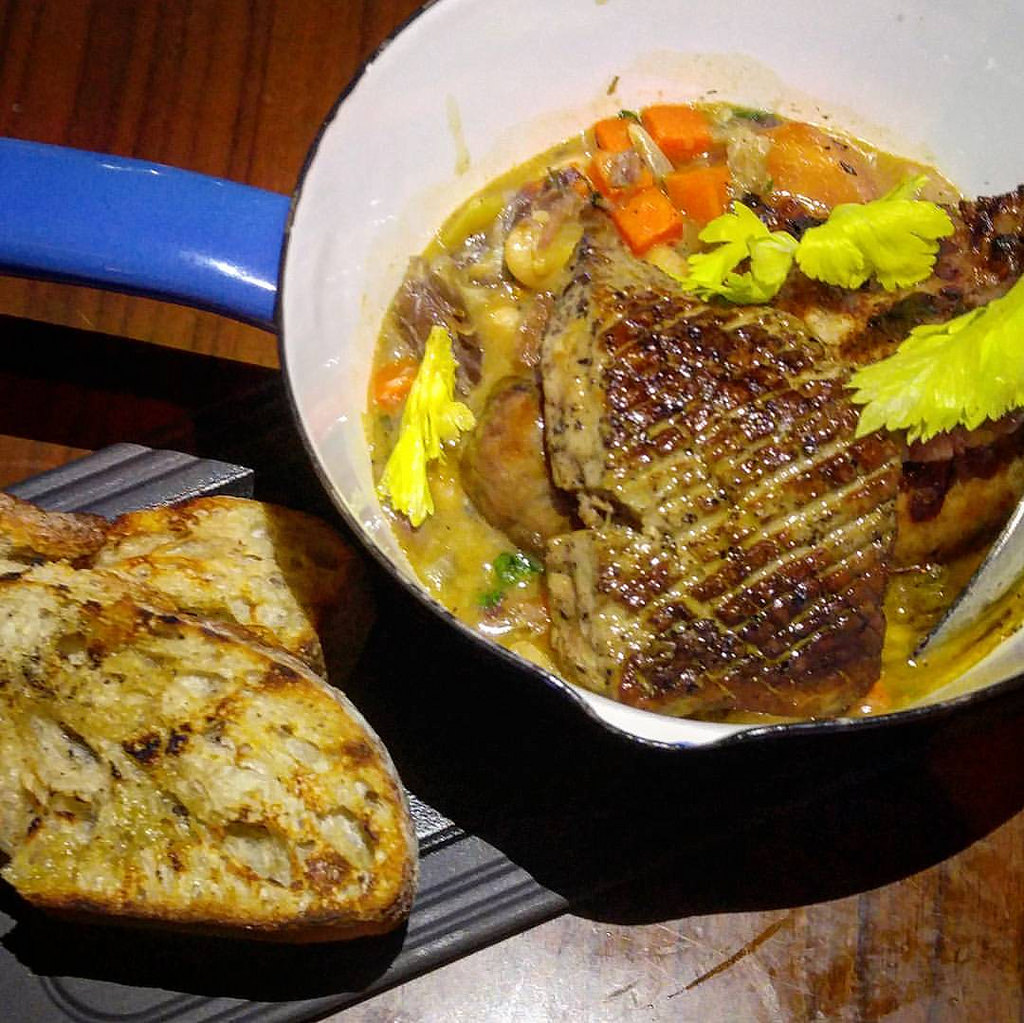slice of bread: (17, 549, 427, 921)
